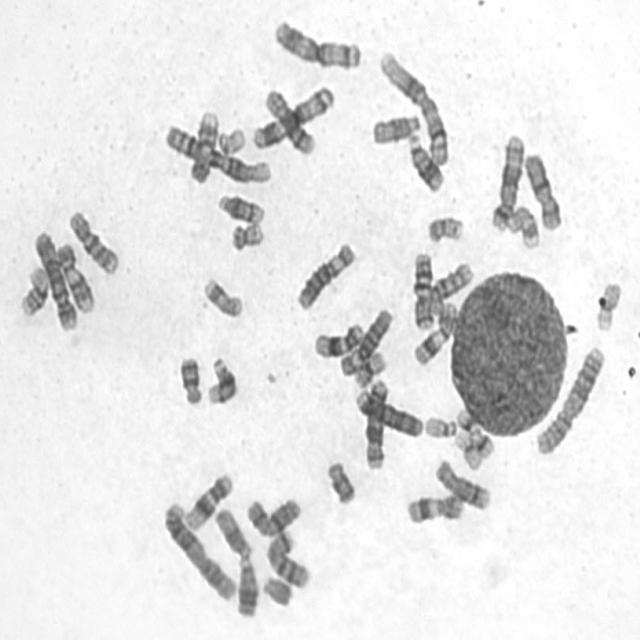A1: (374, 45, 452, 168), (161, 119, 273, 186)
A2: (531, 340, 607, 458), (159, 496, 238, 603)
A3: (249, 80, 337, 151), (270, 13, 364, 71)
B4: (30, 225, 78, 333), (351, 384, 425, 439)
B5: (487, 128, 527, 233), (361, 375, 391, 472)
C10: (64, 205, 120, 276), (419, 257, 475, 327)
C11: (409, 295, 459, 369), (402, 490, 466, 526)
C12: (180, 467, 234, 532), (310, 318, 365, 359)
C6: (292, 237, 357, 313), (336, 303, 394, 378)
C7: (262, 525, 313, 591), (408, 246, 437, 333)
C8: (261, 84, 317, 157), (431, 454, 493, 512)
C9: (52, 238, 96, 315), (186, 105, 222, 185)
D13: (404, 127, 445, 194), (233, 552, 259, 619)
D14: (203, 352, 240, 407), (214, 189, 266, 225)
D15: (210, 503, 254, 560), (368, 108, 423, 146)
E16: (17, 261, 51, 319), (352, 350, 389, 390)
E17: (199, 272, 245, 320), (503, 201, 541, 251)
E18: (322, 456, 357, 506), (175, 351, 204, 407)
F19: (592, 276, 624, 334), (450, 427, 484, 472)
F20: (423, 211, 466, 245), (227, 218, 265, 252)
G21: (468, 425, 496, 460), (452, 404, 481, 437)
G22: (213, 122, 247, 156), (421, 411, 459, 439)
X: (520, 148, 564, 232), (242, 492, 303, 540)
Y: (258, 572, 294, 609)
